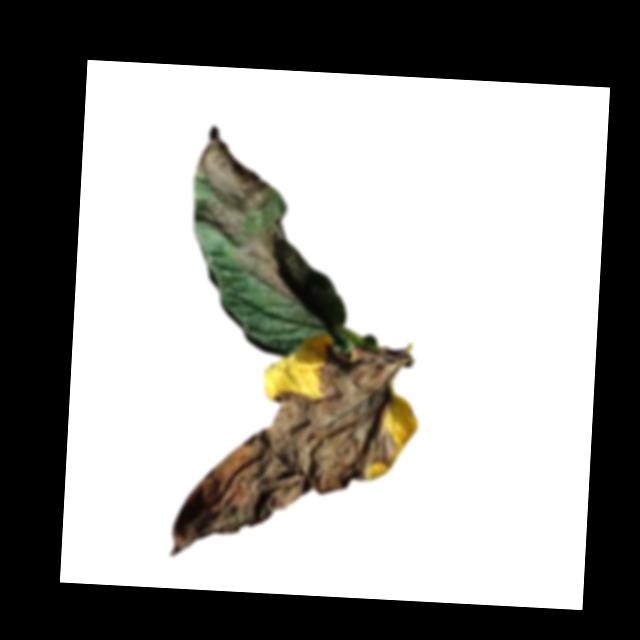Late_blight: (170, 329, 409, 570), (191, 126, 276, 236), (235, 216, 298, 305)
